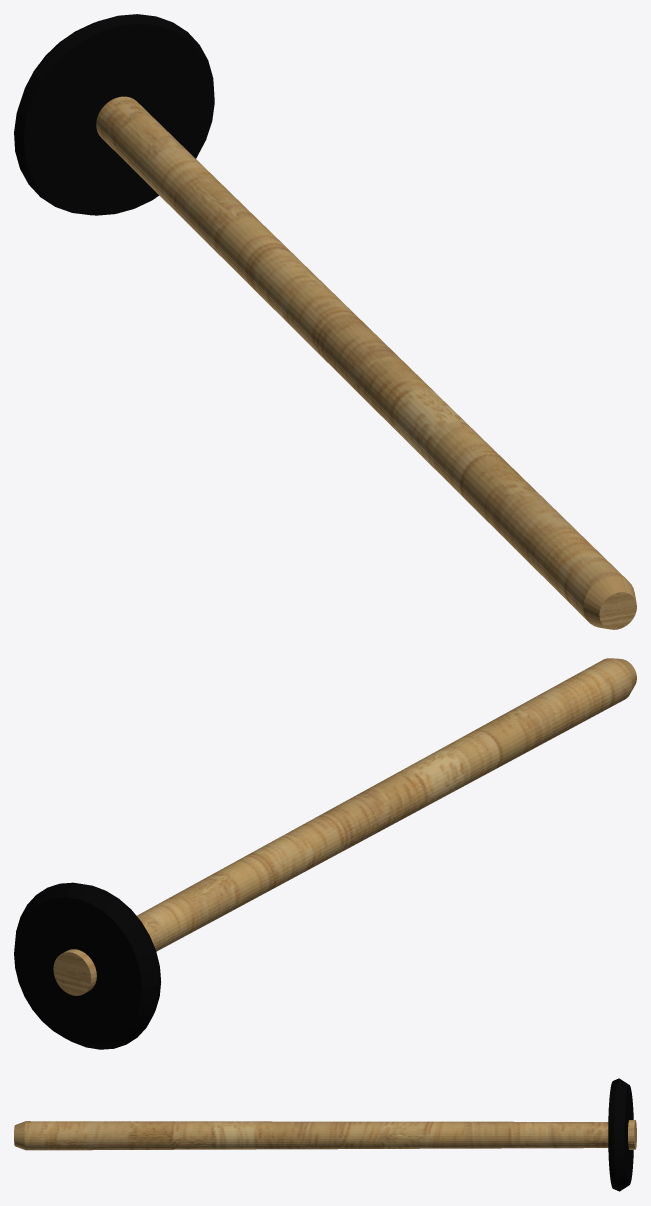
The model's file is pukulan rindik.fbx.
3 views of the same model, one above another, from view 1: azimuth 30°, elevation 25°; view 2: azimuth 150°, elevation 25°; view 3: azimuth 270°, elevation 25° (orthographic). The views are drawn at different scales.
Visible parts, largest first — view 1: Cylinder.008; view 2: Cylinder.008; view 3: Cylinder.008.
Boxes of the visible parts, x1,y1,x2,y2 form: Cylinder.008: [14, 14, 636, 629]; Cylinder.008: [14, 658, 636, 1049]; Cylinder.008: [14, 1078, 636, 1191].
Bounding box in the file's own units: 55.74 × 52.2 × 287.
2 materials, 1 textured.
